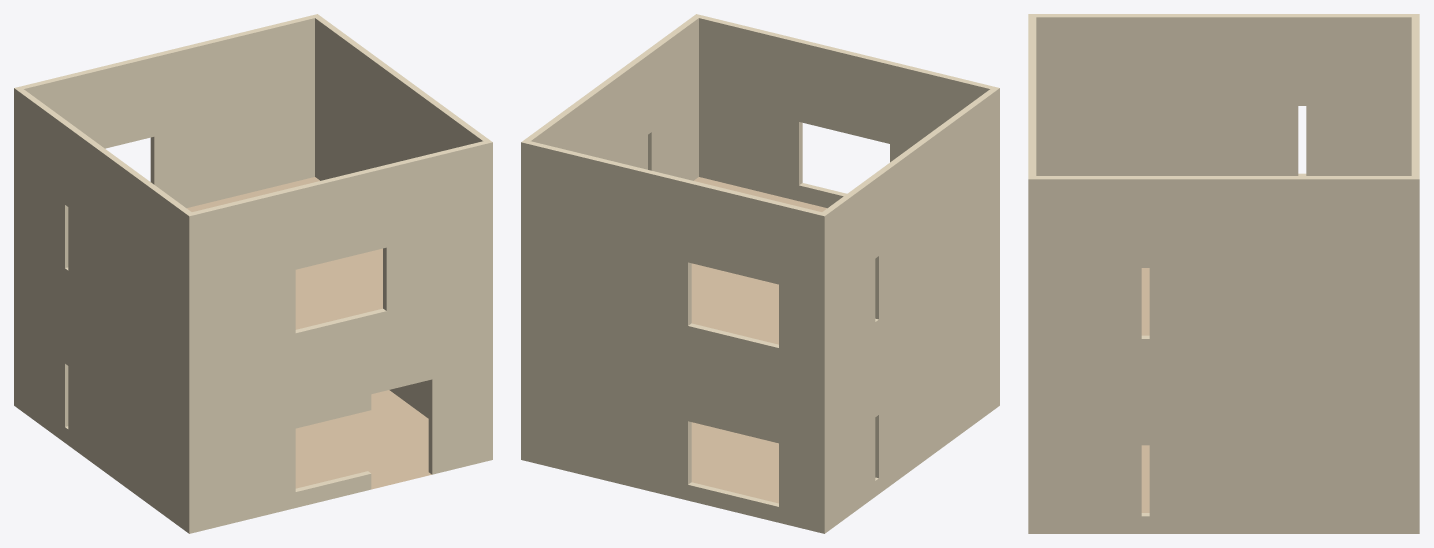
The picture shows the model from 3 angles, left to right: view 1: azimuth 30°, elevation 25°; view 2: azimuth 150°, elevation 25°; view 3: azimuth 270°, elevation 25°; orthographic projection. The views are drawn at different scales.
Visible parts, largest first — view 1: FrontWall2, FrontWall1, BackWall2, LeftWall2, LeftWall1, RightWall2, Floor1, Floor2, RightWall1; view 2: BackWall2, BackWall1, FrontWall2, LeftWall2, LeftWall1, RightWall2, Floor2, Floor1; view 3: RightWall2, RightWall1, LeftWall2, FrontWall2, BackWall2, BackWall1, FrontWall1, Floor1, Floor2.
Boxes of the visible parts, left/top/right/bottom form: FrontWall2: left=186, top=140, right=492, bottom=374; FrontWall1: left=186, top=301, right=492, bottom=533; BackWall2: left=14, top=14, right=320, bottom=246; LeftWall2: left=14, top=87, right=195, bottom=374; LeftWall1: left=14, top=247, right=195, bottom=533; RightWall2: left=312, top=15, right=492, bottom=214; Floor1: left=295, top=390, right=431, bottom=489; Floor2: left=187, top=177, right=382, bottom=329; RightWall1: left=389, top=380, right=428, bottom=418; BackWall2: left=521, top=140, right=827, bottom=374; BackWall1: left=521, top=301, right=827, bottom=533; FrontWall2: left=693, top=14, right=999, bottom=246; LeftWall2: left=818, top=87, right=999, bottom=374; LeftWall1: left=819, top=247, right=999, bottom=533; RightWall2: left=521, top=15, right=698, bottom=301; Floor2: left=691, top=177, right=826, bottom=344; Floor1: left=691, top=422, right=778, bottom=503; RightWall2: left=1028, top=176, right=1419, bottom=356; RightWall1: left=1028, top=356, right=1419, bottom=533; LeftWall2: left=1029, top=14, right=1419, bottom=175; FrontWall2: left=1028, top=14, right=1036, bottom=356; BackWall2: left=1411, top=14, right=1419, bottom=356; BackWall1: left=1411, top=356, right=1419, bottom=533; FrontWall1: left=1028, top=356, right=1036, bottom=533; Floor1: left=1141, top=445, right=1149, bottom=512; Floor2: left=1141, top=268, right=1149, bottom=335.
Bounding box in the file's own units: 10 × 10 × 10.
